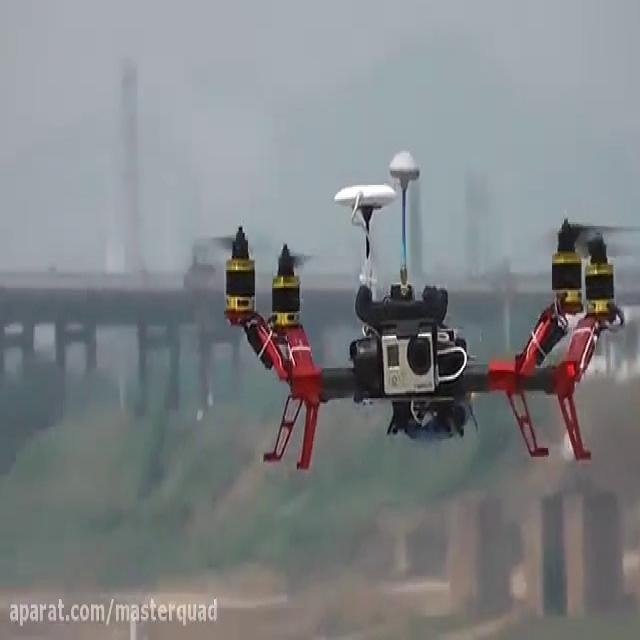drone: (203, 144, 638, 471)
